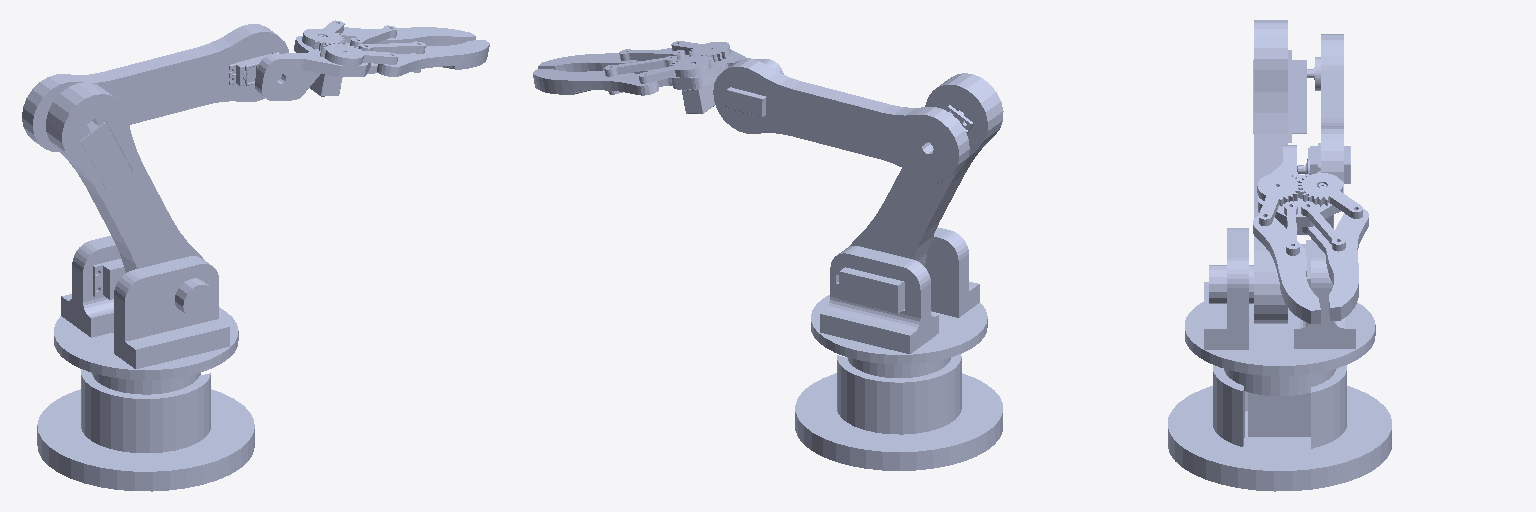
URDF robot description (cobot):
<?xml version="1.0" ?>
<!-- =================================================================================== -->
<!-- |    This document was autogenerated by xacro from /catkin_ws/src/cobot_description/urdf/cobot.urdf.xacro | -->
<!-- |    EDITING THIS FILE BY HAND IS NOT RECOMMENDED                                 | -->
<!-- =================================================================================== -->
<!-- This URDF was automatically created by SolidWorks to URDF Exporter! Originally created by [author] ([email redacted]) 
     Commit Version: 1.6.0-1-g15f4949  Build Version: 1.6.7594.29634
     For more information, please see http://wiki.ros.org/sw_urdf_exporter -->
<robot name="cobot">
    <link name="base_link" />
    <!-- <joint name="base_link__base" type="fixed">
    <parent link="base_link"/>
    <child link="base"/>
    <origin xyz="0.0 0.0 0.0" rpy="0.0 0.0 0.0"/>
  </joint> -->
    <joint name="base_link__base_stand" type="fixed">
        <parent link="base_link" />
        <child link="base_stand" />
        <origin rpy="0.0 0.0 0.0" xyz="0.0 0.0 0.0" />
    </joint>
    <link name="base_stand">
        <inertial>
            <origin rpy="0 0 0" xyz="-0.0024988 0.00012827 0.034299" />
            <mass value="1.2649" />
            <inertia ixx="0.002533" ixy="-7.2003E-06" ixz="8.109E-05" iyy="0.0023931" iyz="-4.1626E-06" izz="0.0041505" />
        </inertial>
        <visual>
            <origin rpy="0 0 0" xyz="0 0 0" />
            <geometry>
                <mesh filename="package://cobot_description/meshes/base_stand.STL" />
            </geometry>
            <material name="">
                <color rgba="0.79216 0.81961 0.93333 1" />
            </material>
        </visual>
        <collision>
            <origin rpy="0 0 0" xyz="0 0 0" />
            <geometry>
                <mesh filename="package://cobot_description/meshes/base_stand.STL" />
            </geometry>
        </collision>
    </link>
    <joint name="base_stand__base" type="revolute">
        <origin rpy="0 0 0" xyz="0 0 0.106" />
        <parent link="base_stand" />
        <child link="base" />
        <axis xyz="0 0 1" />
        <limit effort="5" lower="-3.1416" upper="3.1416" velocity="5" />
    </joint>
    <link name="base">
        <inertial>
            <origin rpy="0 0 0" xyz="-0.00087897 0.0045493 0.030537" />
            <mass value="0.69097" />
            <inertia ixx="0.00068689" ixy="3.5558E-06" ixz="1.3086E-05" iyy="0.00097033" iyz="-1.1454E-05" izz="0.0012375" />
        </inertial>
        <visual>
            <origin rpy="0 0 0" xyz="0 0 0" />
            <geometry>
                <mesh filename="package://cobot_description/meshes/base.STL" />
            </geometry>
            <material name="">
                <color rgba="0.79216 0.81961 0.93333 1" />
            </material>
        </visual>
        <collision>
            <origin rpy="0 0 0" xyz="0 0 0" />
            <geometry>
                <mesh filename="package://cobot_description/meshes/base.STL" />
            </geometry>
        </collision>
    </link>
    <joint name="base__shoulder" type="revolute">
        <origin rpy="0 0 0" xyz="0.0205 0 0.06" />
        <parent link="base" />
        <child link="shoulder" />
        <axis xyz="0 1 0" />
        <limit effort="5" lower="-3.1416" upper="3.1416" velocity="5" />
    </joint>
    <link name="shoulder">
        <inertial>
            <origin rpy="0 0 0" xyz="-0.043702 -0.0089462 0.088598" />
            <mass value="0.50956" />
            <inertia ixx="0.0022353" ixy="5.0525E-05" ixz="0.00097691" iyy="0.0027432" iyz="-0.00010402" izz="0.00069497" />
        </inertial>
        <visual>
            <origin rpy="0 0 0" xyz="0 0 0" />
            <geometry>
                <mesh filename="package://cobot_description/meshes/shoulder.STL" />
            </geometry>
            <material name="">
                <color rgba="0.79216 0.81961 0.93333 1" />
            </material>
        </visual>
        <collision>
            <origin rpy="0 0 0" xyz="0 0 0" />
            <geometry>
                <mesh filename="package://cobot_description/meshes/shoulder.STL" />
            </geometry>
        </collision>
    </link>
    <joint name="shoulder__elbow" type="revolute">
        <origin rpy="0 0 0" xyz="-0.084775 0.025743 0.16726" />
        <parent link="shoulder" />
        <child link="elbow" />
        <axis xyz="0 1 0" />
        <limit effort="5" lower="-3.1416" upper="3.1416" velocity="5" />
    </joint>
    <link name="elbow">
        <inertial>
            <origin rpy="0 0 0" xyz="0.10764 0.020329 0.0017657" />
            <mass value="0.31089" />
            <inertia ixx="9.4078E-05" ixy="1.6899E-07" ixz="-2.6416E-05" iyy="0.0017716" iyz="2.7724E-09" izz="0.001704" />
        </inertial>
        <visual>
            <origin rpy="0 0 0" xyz="0 0 0" />
            <geometry>
                <mesh filename="package://cobot_description/meshes/elbow.STL" />
            </geometry>
            <material name="">
                <color rgba="0.79216 0.81961 0.93333 1" />
            </material>
        </visual>
        <collision>
            <origin rpy="0 0 0" xyz="0 0 0" />
            <geometry>
                <mesh filename="package://cobot_description/meshes/elbow.STL" />
            </geometry>
        </collision>
    </link>
    <joint name="elbow__end_effector" type="revolute">
        <origin rpy="0 0 0" xyz="0.20962 0 0.0034385" />
        <parent link="elbow" />
        <child link="end_effector" />
        <axis xyz="0 1 0" />
        <limit effort="5" lower="-3.1416" upper="3.1416" velocity="5" />
    </joint>
    <link name="end_effector">
        <inertial>
            <origin rpy="0 0 0" xyz="0.10059 -0.0011654 -0.0095762" />
            <mass value="0.21582" />
            <inertia ixx="5.0445E-05" ixy="-1.9198E-05" ixz="3.0188E-05" iyy="0.00021644" iyz="2.8871E-06" izz="0.00023311" />
        </inertial>
        <visual>
            <origin rpy="0 0 0" xyz="0 0 0" />
            <geometry>
                <mesh filename="package://cobot_description/meshes/end_effector.STL" />
            </geometry>
            <material name="">
                <color rgba="0.79216 0.81961 0.93333 1" />
            </material>
        </visual>
        <collision>
            <origin rpy="0 0 0" xyz="0 0 0" />
            <geometry>
                <mesh filename="package://cobot_description/meshes/end_effector.STL" />
            </geometry>
        </collision>
    </link>
    <transmission name="trans_base_stand__base">
        <type>transmission_interface/SimpleTransmission</type>
        <joint name="base_stand__base">
            <hardwareInterface>hardware_interface/EffortJointInterface</hardwareInterface>
        </joint>
        <actuator name="base_stand__base_motor">
            <hardwareInterface>hardware_interface/EffortJointInterface</hardwareInterface>
            <mechanicalReduction>1</mechanicalReduction>
        </actuator>
    </transmission>
    <transmission name="trans_base__shoulder">
        <type>transmission_interface/SimpleTransmission</type>
        <joint name="base__shoulder">
            <hardwareInterface>hardware_interface/EffortJointInterface</hardwareInterface>
        </joint>
        <actuator name="base__shoulder_motor">
            <hardwareInterface>hardware_interface/EffortJointInterface</hardwareInterface>
            <mechanicalReduction>1</mechanicalReduction>
        </actuator>
    </transmission>
    <transmission name="trans_shoulder__elbow">
        <type>transmission_interface/SimpleTransmission</type>
        <joint name="shoulder__elbow">
            <hardwareInterface>hardware_interface/EffortJointInterface</hardwareInterface>
        </joint>
        <actuator name="shoulder__elbow_motor">
            <hardwareInterface>hardware_interface/EffortJointInterface</hardwareInterface>
            <mechanicalReduction>1</mechanicalReduction>
        </actuator>
    </transmission>
    <transmission name="trans_elbow__end_effector">
        <type>transmission_interface/SimpleTransmission</type>
        <joint name="elbow__end_effector">
            <hardwareInterface>hardware_interface/EffortJointInterface</hardwareInterface>
        </joint>
        <actuator name="elbow__end_effector_motor">
            <hardwareInterface>hardware_interface/EffortJointInterface</hardwareInterface>
            <mechanicalReduction>1</mechanicalReduction>
        </actuator>
    </transmission>
    

    <gazebo reference="base_stand">
      <material>Gazebo/Blue</material>
    </gazebo>
    <gazebo reference="base">
      <material>Gazebo/Green</material>
    </gazebo>
    <gazebo reference="shoulder">
      <material>Gazebo/Red</material>
    </gazebo>
    <gazebo reference="elbow">
      <material>Gazebo/Orange</material>
    </gazebo>
    <gazebo reference="end_effector">
      <material>Gazebo/White</material>
    </gazebo>

    <gazebo>
        <plugin name="gazebo_ros_control" filename="libgazebo_ros_control.so">
            <robotNamespace>/</robotNamespace>
        </plugin>
    </gazebo>
</robot>

--- Facts derived from the render (not from the file) ---
Views: 3 orthographic renders of the robot side by side, from view 1: azimuth 30°, elevation 25°; view 2: azimuth 150°, elevation 25°; view 3: azimuth 270°, elevation 25°.
Model cobot with 6 links and 5 joints (4 revolute, 1 fixed), rooted at base_link, posed all joints at 0.
Visible links, largest first — view 1: base_stand, base, shoulder, elbow, end_effector; view 2: base_stand, base, elbow, shoulder, end_effector; view 3: base_stand, base, end_effector, shoulder, elbow.
Link boxes in pixels (x1,y1,x2,y2): base_stand: (37,369,254,491); base: (54,236,238,379); shoulder: (46,82,215,319); elbow: (22,24,288,151); end_effector: (255,20,489,100); base_stand: (795,354,1002,470); base: (811,227,987,363); elbow: (713,59,969,181); shoulder: (849,73,1003,266); end_effector: (533,41,783,113); base_stand: (1168,365,1391,491); base: (1185,228,1375,375); end_effector: (1253,145,1368,323); shoulder: (1209,20,1320,323); elbow: (1297,34,1350,183).
Size in the robot's own frame: 0.4831 by 0.1999 by 0.3806 metres.
5 mesh visuals loaded from 5 distinct referenced files (5 binary STL).